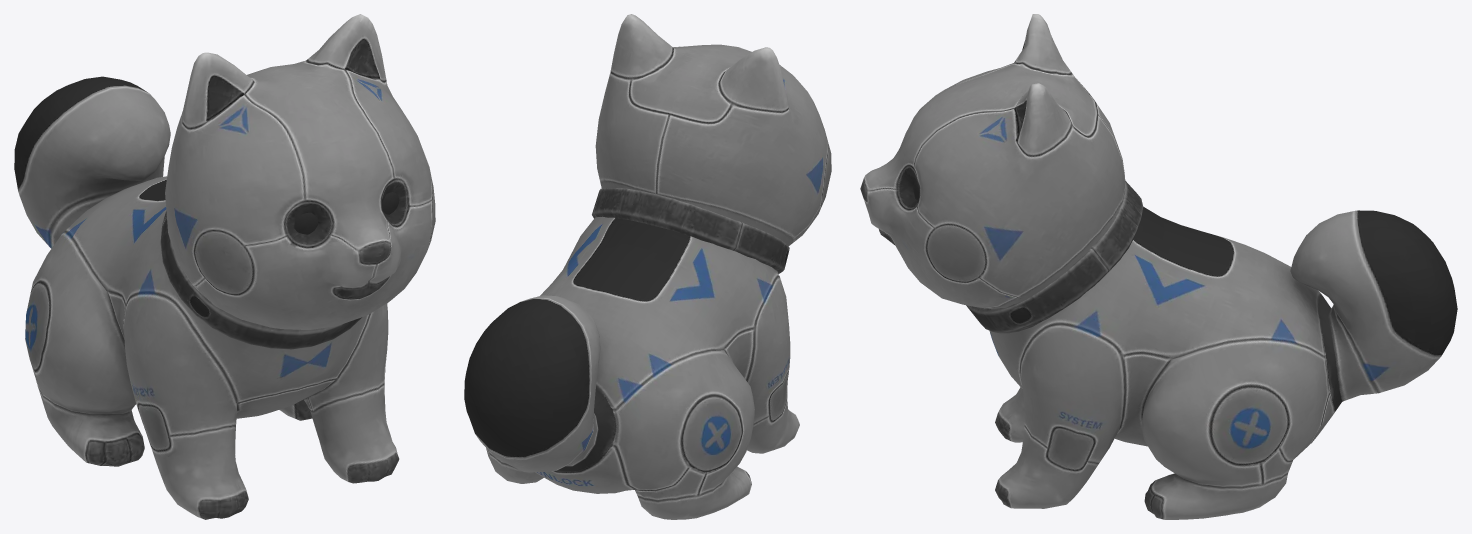
3 views of the same model, side by side, from view 1: azimuth 30°, elevation 25°; view 2: azimuth 150°, elevation 25°; view 3: azimuth 270°, elevation 25° (orthographic). The views are drawn at different scales.
Visible parts, largest first — view 1: Shiba_Shiba_0; view 2: Shiba_Shiba_0; view 3: Shiba_Shiba_0.
Part boxes in pixels (x1,y1,x2,y2): Shiba_Shiba_0: (14,14,435,519); Shiba_Shiba_0: (464,14,831,519); Shiba_Shiba_0: (860,14,1457,519).
Size of the model in its own units: 92.09 by 138 by 177.
1 material, 1 textured.
